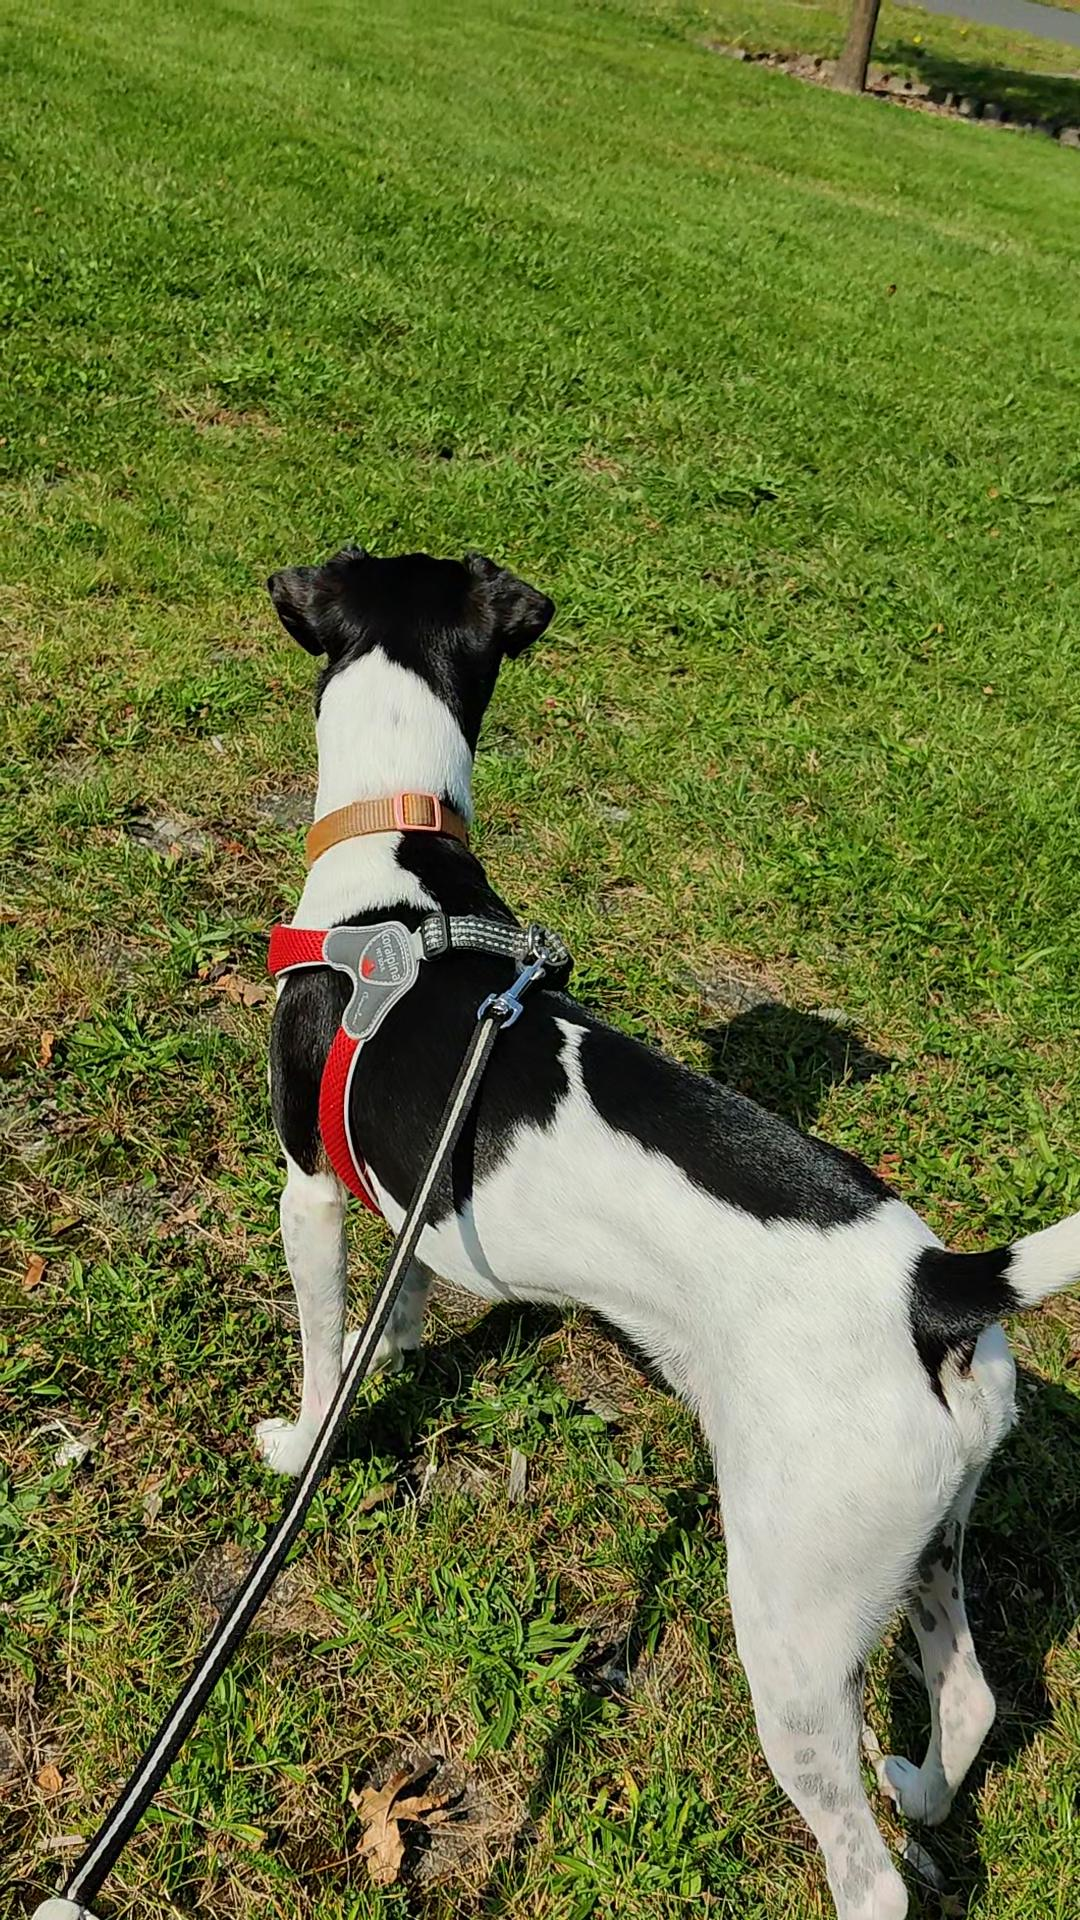Dog: (247, 524, 1079, 1919)
